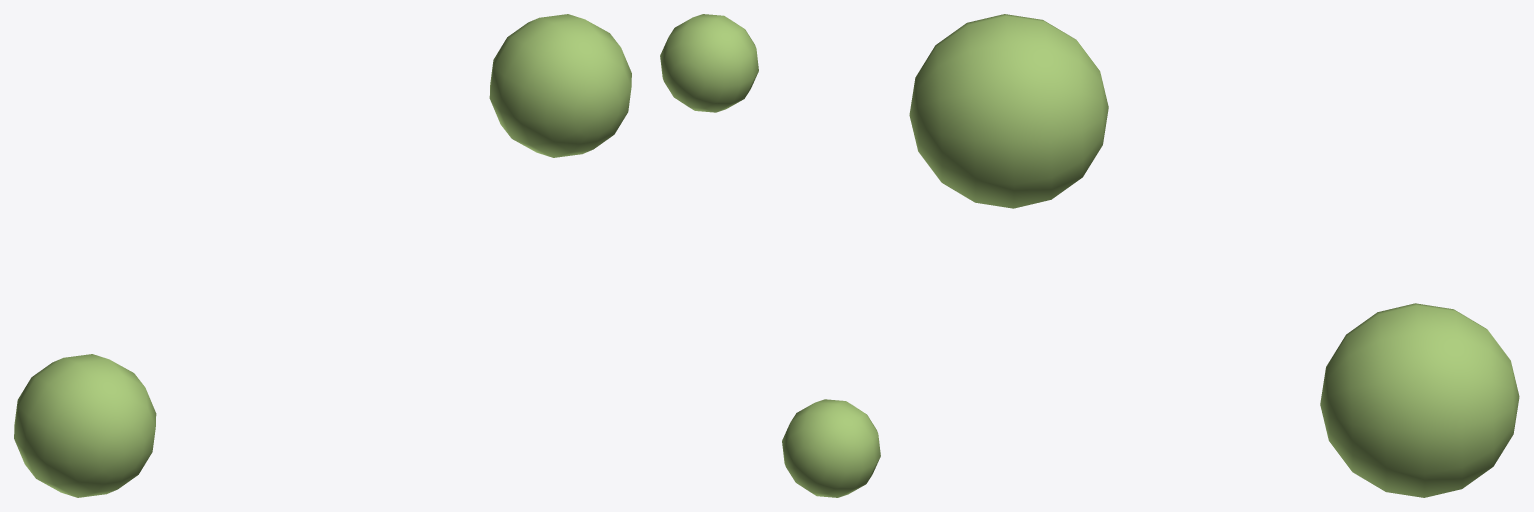
The model's file is superficial-popliteal-nodes-l.glb.
3 renders of one model, left to right at view 1: azimuth 30°, elevation 25°; view 2: azimuth 150°, elevation 25°; view 3: azimuth 270°, elevation 25°, orthographic. The views are drawn at different scales.
Parts seen in each view (by area): view 1: Superficial popliteal nodes.l; view 2: Superficial popliteal nodes.l; view 3: Superficial popliteal nodes.l.
Boxes of the visible parts, x1,y1,x2,y2 form: Superficial popliteal nodes.l: (14, 14, 631, 497); Superficial popliteal nodes.l: (660, 14, 880, 497); Superficial popliteal nodes.l: (909, 14, 1519, 497).
Size of the model in its own units: 0.00932 by 0.00988 by 0.00795.
